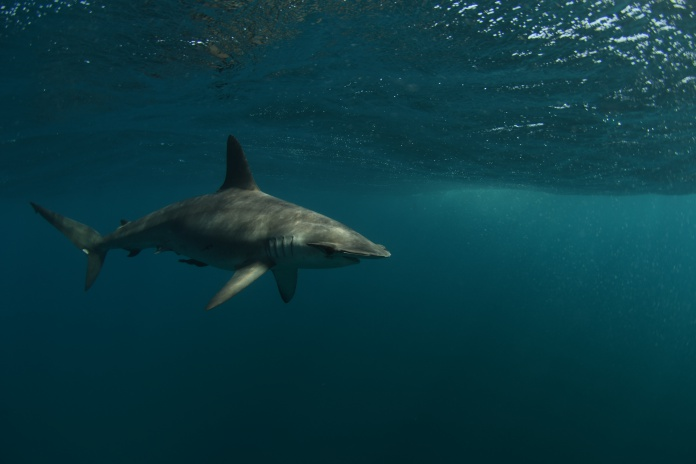Hammer: (25, 121, 408, 337)
